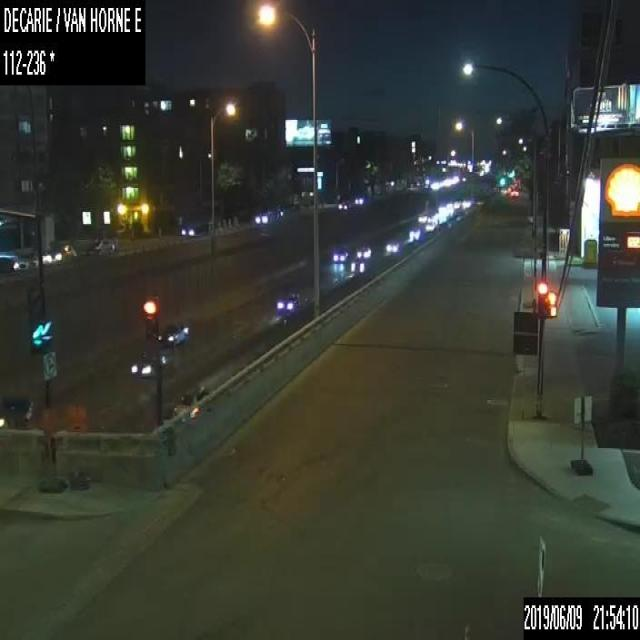construction: (42, 403, 64, 489), (572, 390, 593, 476), (68, 401, 88, 488)
vehicle: (130, 344, 171, 379), (0, 392, 35, 428), (173, 384, 206, 421), (44, 243, 77, 264), (84, 236, 116, 256), (158, 323, 183, 343), (276, 291, 298, 312), (13, 254, 37, 271), (178, 316, 194, 341), (180, 220, 204, 235), (350, 256, 368, 274), (254, 209, 273, 223), (332, 247, 348, 262), (271, 204, 284, 222), (356, 245, 371, 258), (386, 238, 399, 252), (353, 192, 365, 204), (337, 200, 349, 211), (507, 187, 519, 197)
